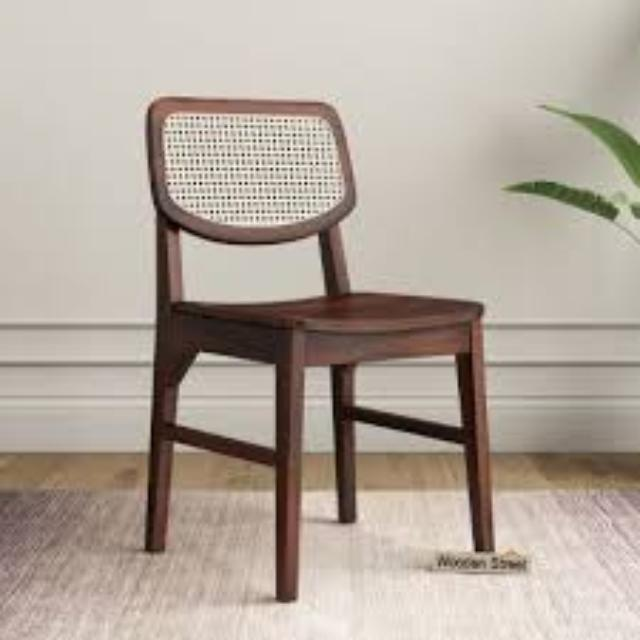obstacle: (102, 61, 542, 633)
